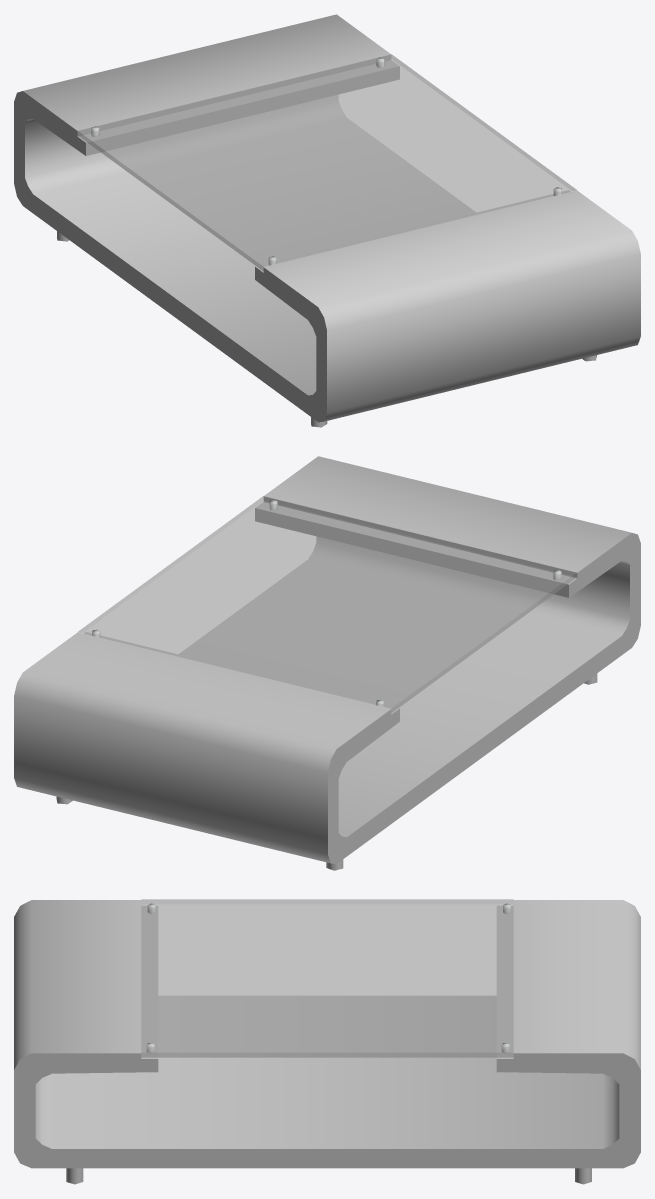
Rendered from Office_Coffee_Table.fbx.
3 renders of one model, top to bottom at view 1: azimuth 30°, elevation 25°; view 2: azimuth 150°, elevation 25°; view 3: azimuth 270°, elevation 25°, orthographic.
Parts seen in each view (by area): view 1: Office_Coffee_Table; view 2: Office_Coffee_Table; view 3: Office_Coffee_Table.
Part boxes in pixels (x1,y1,x2,y2): Office_Coffee_Table: (14, 14, 640, 427); Office_Coffee_Table: (14, 456, 640, 870); Office_Coffee_Table: (14, 899, 640, 1184).
Size of the model in its own units: 94.88 by 40.29 by 164.
